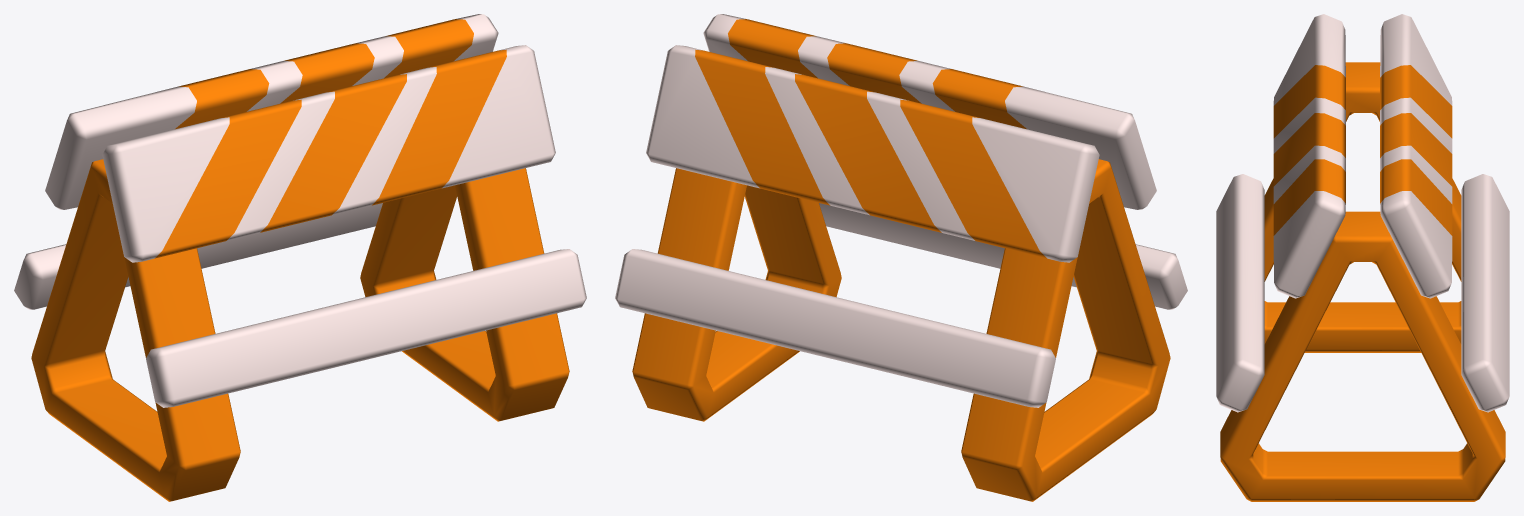
Rendered from Town_9_Road_Fence_1.glb.
The picture shows the model from 3 angles, left to right: view 1: azimuth 30°, elevation 25°; view 2: azimuth 150°, elevation 25°; view 3: azimuth 270°, elevation 25°; orthographic projection. The views are drawn at different scales.
Parts seen in each view (by area): view 1: Town_9_Road_Fence_1; view 2: Town_9_Road_Fence_1; view 3: Town_9_Road_Fence_1.
Boxes of the visible parts, bbox=[...] form: Town_9_Road_Fence_1: bbox=[14, 14, 586, 501]; Town_9_Road_Fence_1: bbox=[615, 14, 1187, 501]; Town_9_Road_Fence_1: bbox=[1216, 14, 1509, 501].
Bounding box in the file's own units: 1.45 × 1.09 × 0.9392.
Materials: 1 (1 with a texture image).
